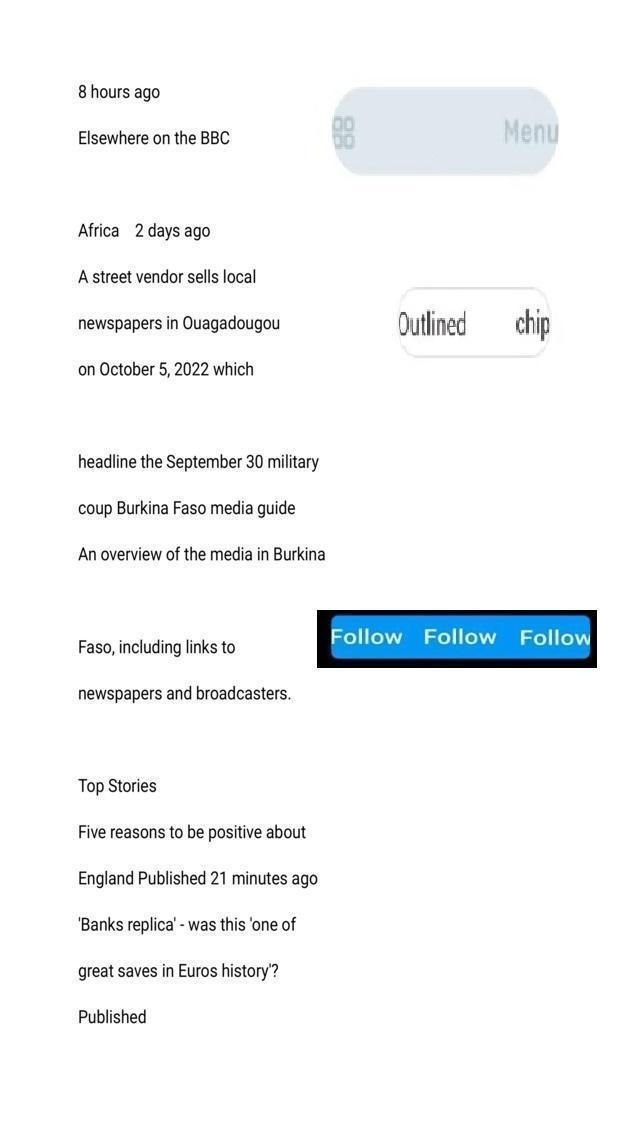Text: (76, 449, 322, 475), (73, 544, 330, 568), (71, 867, 316, 892), (76, 680, 293, 708), (75, 492, 298, 518), (74, 357, 259, 384), (76, 914, 302, 936), (74, 822, 310, 843), (72, 264, 268, 288), (74, 312, 285, 334), (76, 961, 284, 982), (76, 634, 238, 660), (72, 214, 215, 242), (71, 126, 232, 150), (76, 78, 164, 106), (74, 773, 161, 797), (76, 1007, 152, 1028)
TextButton: (330, 88, 558, 176), (397, 286, 550, 359), (330, 616, 592, 658)
WS1: (314, 114, 346, 150), (542, 117, 572, 148), (576, 624, 609, 652), (311, 625, 344, 645), (387, 307, 408, 338), (539, 312, 558, 342)
